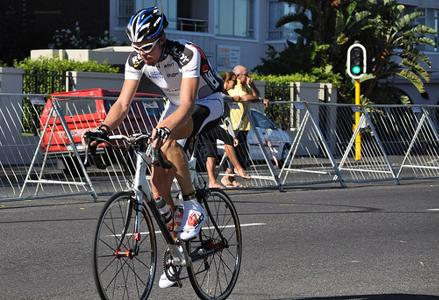person: (79, 7, 228, 289)
